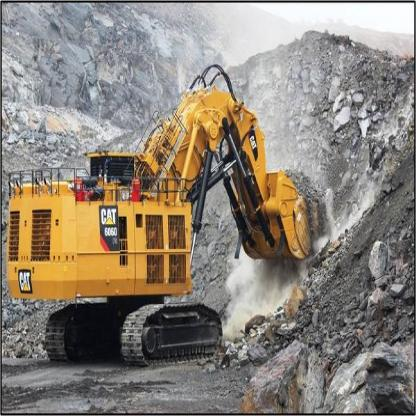excavator: (9, 70, 338, 364)
